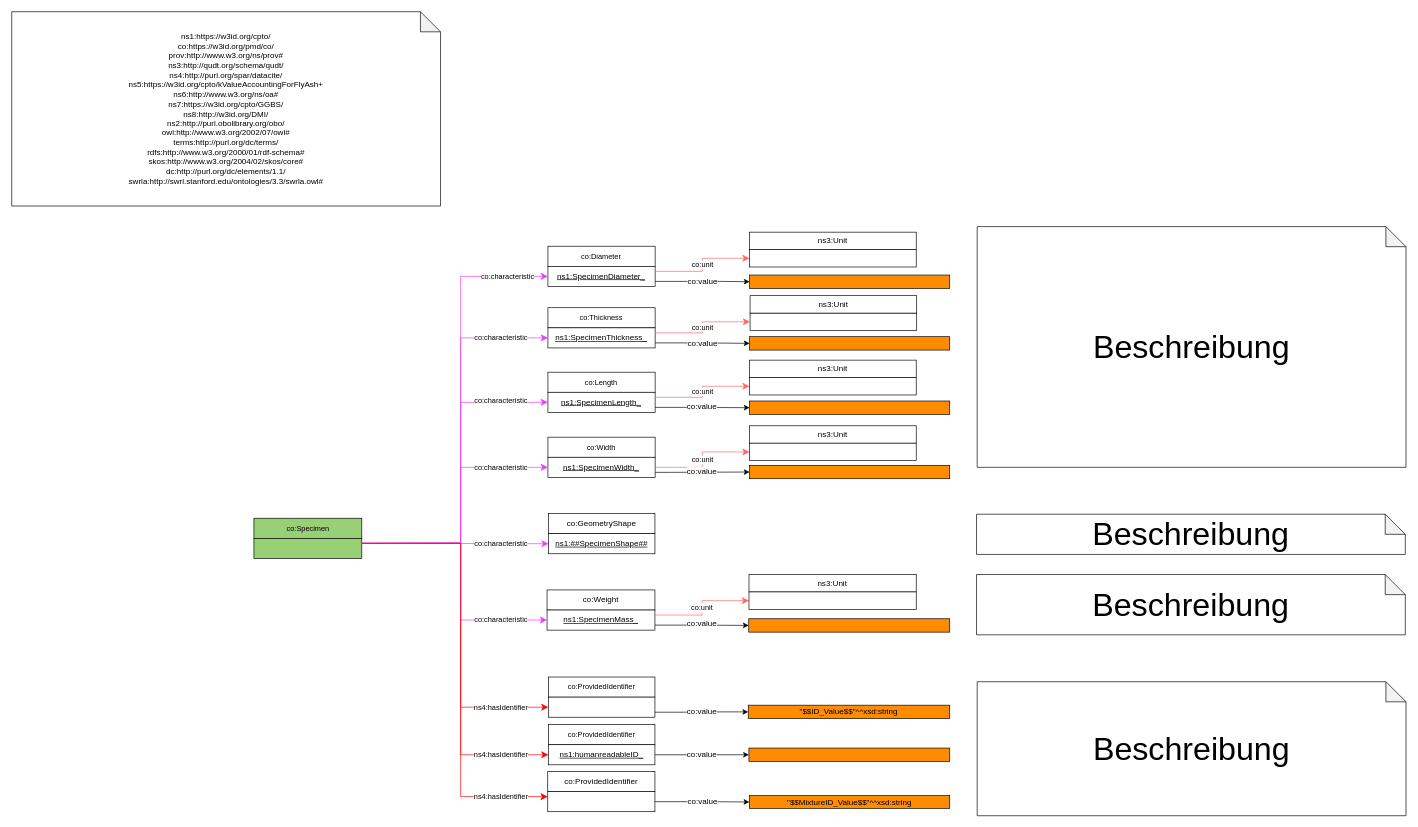
Some shapes in this 1418 by 827 pixel diagram are drawn without their labels. Here are the shapes that lost their labels. From the top down, the centre of each, then its label:
pixel 832 258: ns1:##SpecimenDiameter_Unit##
pixel 849 281: "$$SpecimenDiameter_Value$$"^^xsd:decimal
pixel 833 321: ns1:##SpecimenHeight_Unit##
pixel 849 343: "$$SpecimenHeight_Value$$"^^xsd:decimal
pixel 832 386: ns1:##SpecimenLength_Unit##
pixel 849 407: "$$SpecimenLength_Value$$"^^xsd:decimal
pixel 832 452: ns1:##SpecimenWidth_Unit##
pixel 849 472: "$$SpecimenWidth_Value$$"^^xsd:decimal
pixel 307 548: ns1:TestSpecimen_
pixel 832 600: ns1:##SpecimenMass_Unit##
pixel 849 625: "$$SpecimenMass_Value$$"^^xsd:decimal
pixel 601 706: ns1: ID_
pixel 849 754: "$$humanreadableID_Value$$"^^xsd:string
pixel 601 801: ns1:MixtureID_
